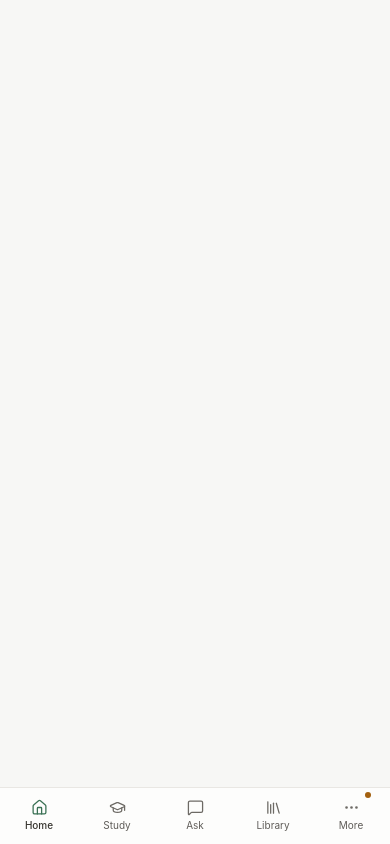
Test case: MobileNav › opens the More sheet with secondary destinations
The width and height of the screenshot is (390, 844).
Click the button "More" at (351, 816), box [312, 788, 389, 843]
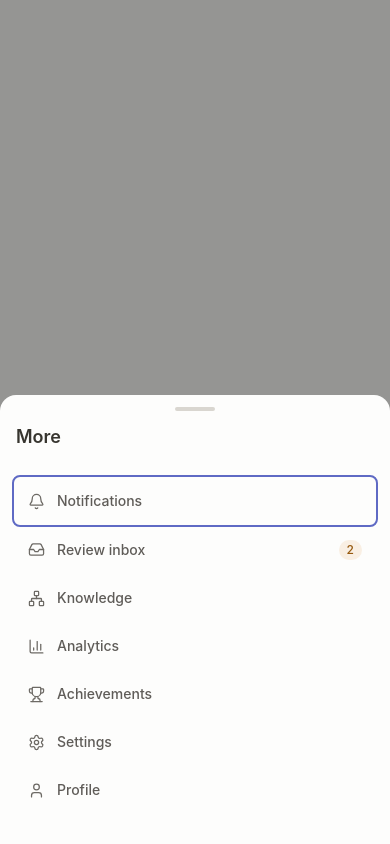
Result: the link "Review inbox 2" is shown at [28, 540, 362, 560]
Result: the link "Analytics" is shown at [28, 637, 119, 654]
Result: the link "Achievements" is shown at [28, 685, 152, 702]
